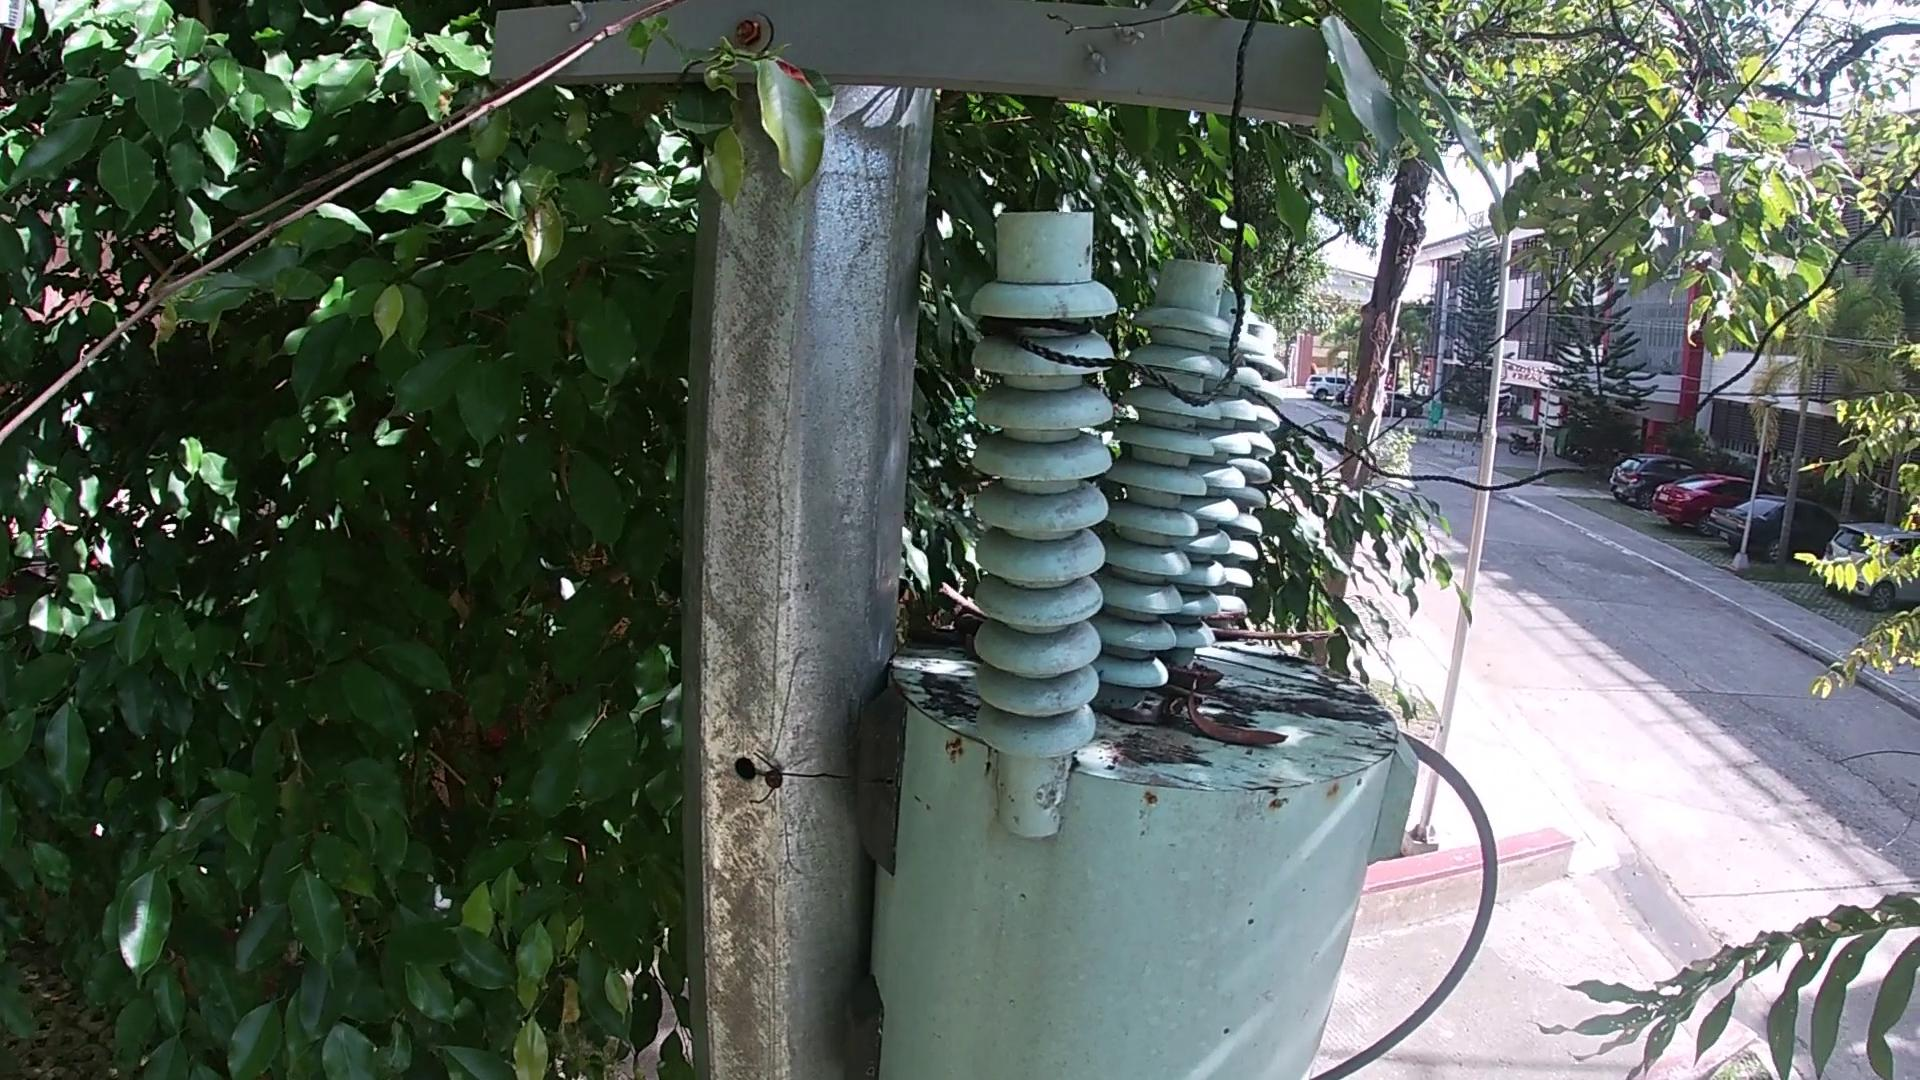leaf: (1108, 696, 1168, 725)
mahogany fruit: (1184, 703, 1303, 746), (1171, 665, 1224, 691)
tree branch: (1, 1, 665, 436), (1054, 1, 1276, 55), (1200, 654, 1345, 698), (1215, 625, 1353, 649), (926, 583, 1000, 620), (943, 615, 984, 644)
